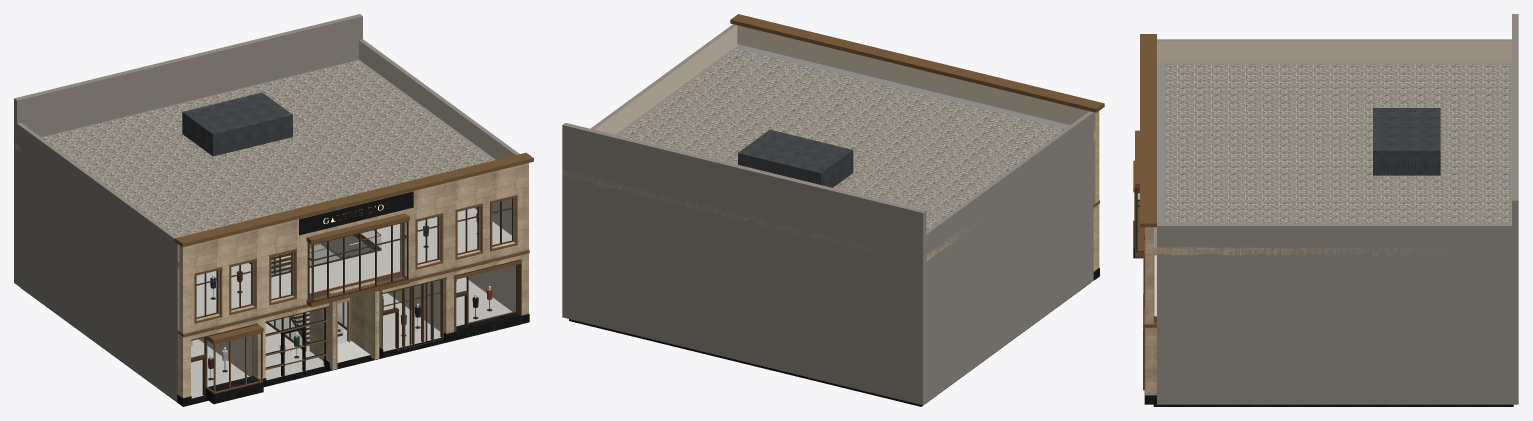
Rendered from galerie_dor_LOD1.fbx.
The picture shows the model from 3 angles, left to right: view 1: azimuth 30°, elevation 25°; view 2: azimuth 150°, elevation 25°; view 3: azimuth 270°, elevation 25°; orthographic projection. The views are drawn at different scales.
Parts seen in each view (by area): view 1: B04_LOD1_BUILDING_EXTERIOR_Stone, B04_LOD1_BUILDING_EXTERIOR_Roof, B04_LOD1_BUILDING_EXTERIOR_RearInterface, B04_LOD1_FACADE_DETAILS_Bronze, B04_LOD1_BUILDING_INTERIOR_GroundSlab, B04_LOD1_BUILDING_INTERIOR_Slabs, B04_LOD1_BUILDING_INTERIOR_Partitions, B04_LOD1_SIGNAGE_Brand, B04_LOD1_FACADE_DETAILS_BayWindow, B04_LOD1_GLASS_SYSTEM_BayWinFrame, B04_LOD1_DISPLAY_OBJECTS_Fashion, B04_LOD1_BUILDING_INTERIOR_HallGlass (+4 smaller); view 2: B04_LOD1_BUILDING_EXTERIOR_Stone, B04_LOD1_BUILDING_EXTERIOR_Roof, B04_LOD1_BUILDING_EXTERIOR_RearInterface, B04_LOD1_FACADE_DETAILS_Bronze, B04_LOD1_BUILDING_INTERIOR_GroundSlab; view 3: B04_LOD1_BUILDING_EXTERIOR_Stone, B04_LOD1_BUILDING_EXTERIOR_Roof, B04_LOD1_FACADE_DETAILS_Bronze, B04_LOD1_BUILDING_EXTERIOR_RearInterface, B04_LOD1_BUILDING_INTERIOR_GroundSlab, B04_LOD1_FACADE_DETAILS_BayWindow.
Boxes of the visible parts, bbox=[...] form: B04_LOD1_BUILDING_EXTERIOR_Stone: bbox=[14, 39, 529, 406]; B04_LOD1_BUILDING_EXTERIOR_Roof: bbox=[14, 59, 528, 271]; B04_LOD1_BUILDING_EXTERIOR_RearInterface: bbox=[14, 14, 362, 282]; B04_LOD1_FACADE_DETAILS_Bronze: bbox=[175, 152, 533, 404]; B04_LOD1_BUILDING_INTERIOR_GroundSlab: bbox=[21, 245, 520, 406]; B04_LOD1_BUILDING_INTERIOR_Slabs: bbox=[196, 208, 511, 317]; B04_LOD1_BUILDING_INTERIOR_Partitions: bbox=[198, 235, 440, 376]; B04_LOD1_SIGNAGE_Brand: bbox=[215, 191, 494, 329]; B04_LOD1_FACADE_DETAILS_BayWindow: bbox=[306, 213, 409, 307]; B04_LOD1_GLASS_SYSTEM_BayWinFrame: bbox=[307, 221, 408, 302]; B04_LOD1_DISPLAY_OBJECTS_Fashion: bbox=[191, 213, 492, 380]; B04_LOD1_BUILDING_INTERIOR_HallGlass: bbox=[269, 243, 346, 345]; B04_LOD1_BUILDING_EXTERIOR_Stone: bbox=[562, 24, 1099, 405]; B04_LOD1_BUILDING_EXTERIOR_Roof: bbox=[562, 44, 1095, 263]; B04_LOD1_BUILDING_EXTERIOR_RearInterface: bbox=[562, 123, 926, 402]; B04_LOD1_FACADE_DETAILS_Bronze: bbox=[730, 14, 1104, 207]; B04_LOD1_BUILDING_INTERIOR_GroundSlab: bbox=[569, 283, 1090, 406]; B04_LOD1_BUILDING_EXTERIOR_Stone: bbox=[1144, 39, 1518, 404]; B04_LOD1_BUILDING_EXTERIOR_Roof: bbox=[1145, 63, 1517, 255]; B04_LOD1_FACADE_DETAILS_Bronze: bbox=[1133, 34, 1156, 390]; B04_LOD1_BUILDING_EXTERIOR_RearInterface: bbox=[1512, 14, 1518, 280]; B04_LOD1_BUILDING_INTERIOR_GroundSlab: bbox=[1153, 404, 1513, 406]; B04_LOD1_FACADE_DETAILS_BayWindow: bbox=[1135, 130, 1143, 257].
Size of the model in its own units: 26.4 by 22.7 by 13.55.
